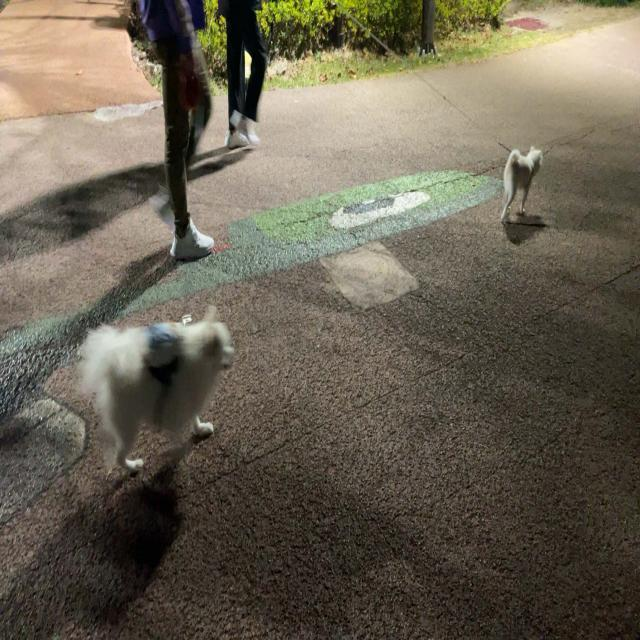Dog: (500, 144, 542, 224)
Leashed_Dog: (74, 54, 235, 478)
